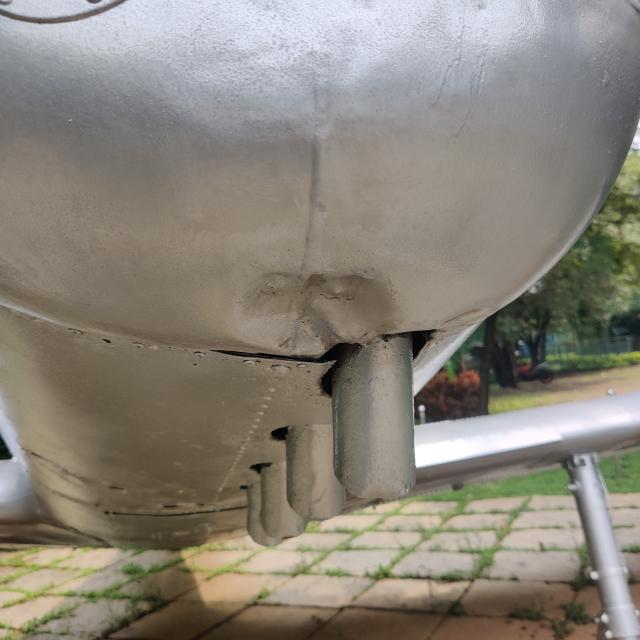dent: (220, 254, 414, 374)
